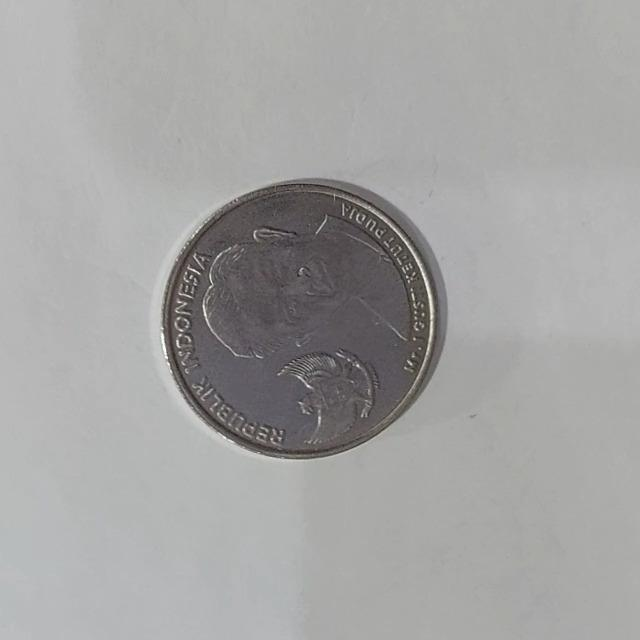Rp100: (158, 177, 444, 460)
